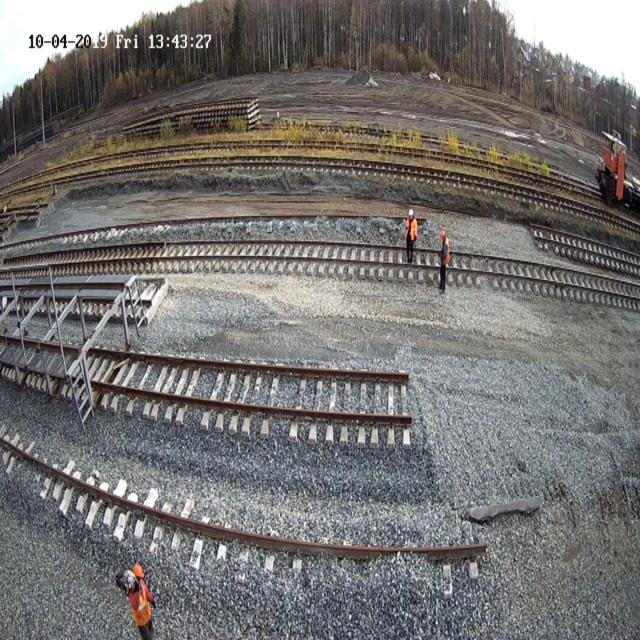Helmet: (133, 564, 144, 579), (440, 230, 446, 240), (408, 209, 414, 216)
Person: (115, 564, 156, 640), (404, 208, 418, 263), (438, 230, 450, 293)
